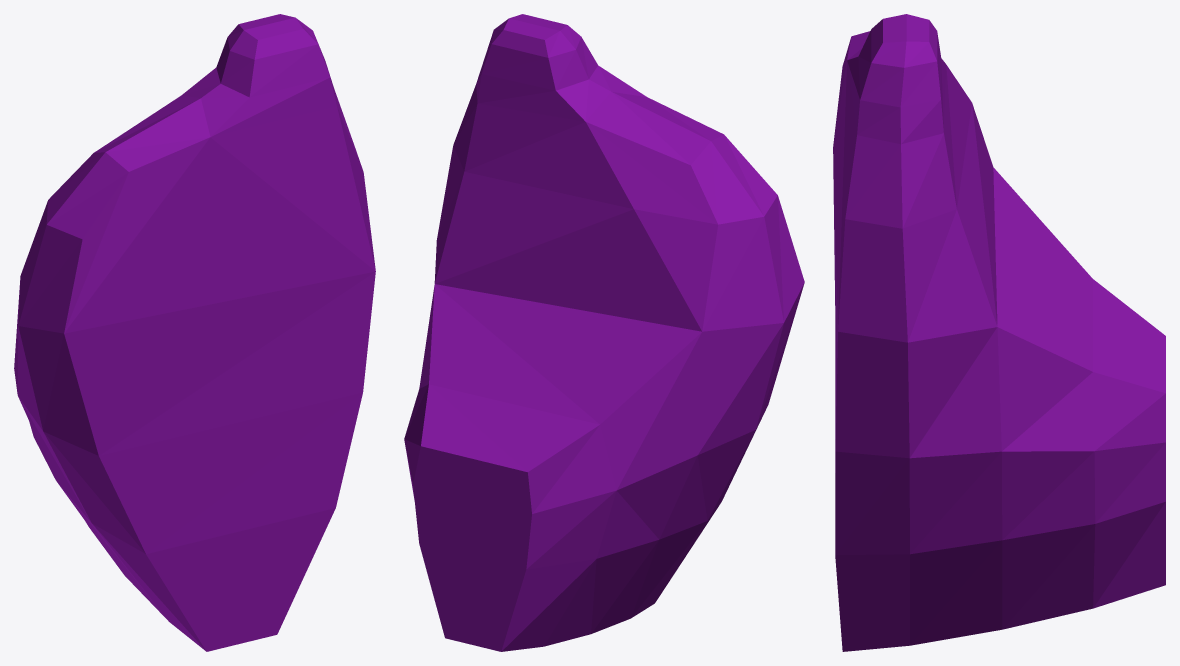
The model's file is BR_Jynx.obj.
3 renders of one model, left to right at view 1: azimuth 30°, elevation 25°; view 2: azimuth 150°, elevation 25°; view 3: azimuth 270°, elevation 25°, orthographic. The views are drawn at different scales.
Parts seen in each view (by area): view 1: rougela; view 2: rougela; view 3: rougela.
Part boxes in pixels (bbox=[...]): rougela: bbox=[14, 14, 375, 651]; rougela: bbox=[404, 14, 804, 651]; rougela: bbox=[833, 14, 1165, 651].
Size of the model in its own units: 3.21 by 5.11 by 2.43.
Materials: 1 (1 with a texture image).
